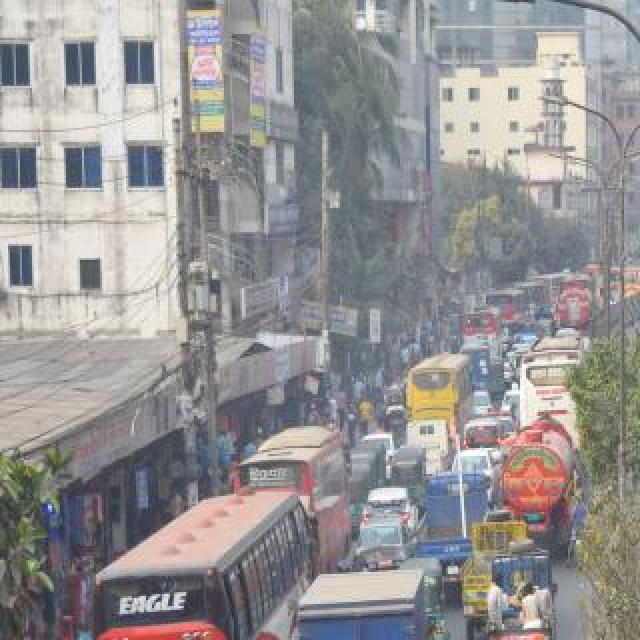bus: (96, 492, 308, 640), (235, 426, 349, 570), (519, 335, 587, 433), (407, 355, 475, 433), (462, 309, 502, 353), (482, 287, 526, 321)
car: (354, 511, 412, 555), (364, 488, 414, 524), (501, 388, 521, 416), (473, 390, 489, 414)
truck: (498, 412, 576, 542), (558, 278, 596, 332)
van: (300, 572, 432, 640), (463, 513, 527, 639), (410, 468, 490, 568), (490, 542, 558, 640), (403, 417, 449, 473), (469, 346, 491, 388)
